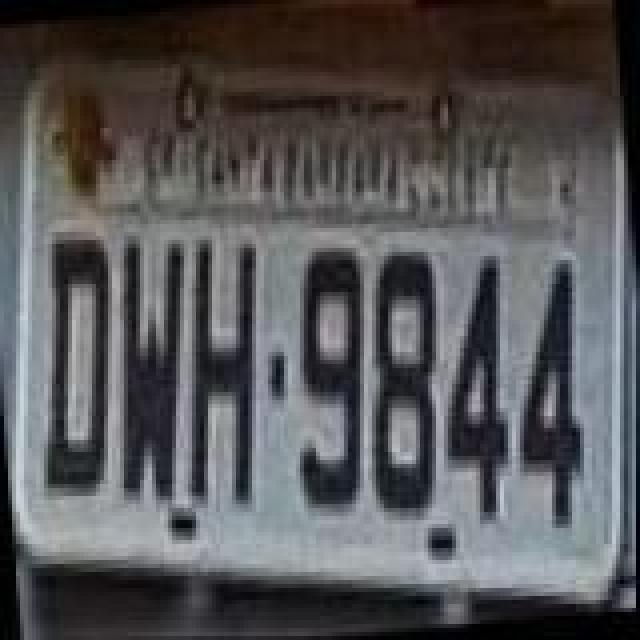4: (430, 254, 526, 534), (504, 256, 596, 536)
8: (354, 244, 458, 520)
9: (282, 244, 386, 520)
D: (24, 232, 132, 504)
H: (166, 232, 278, 516)
W: (102, 234, 206, 510)
